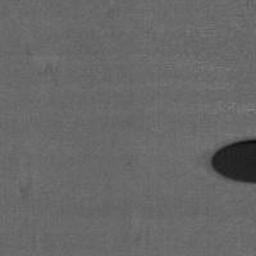Punching: (211, 140, 256, 183)
